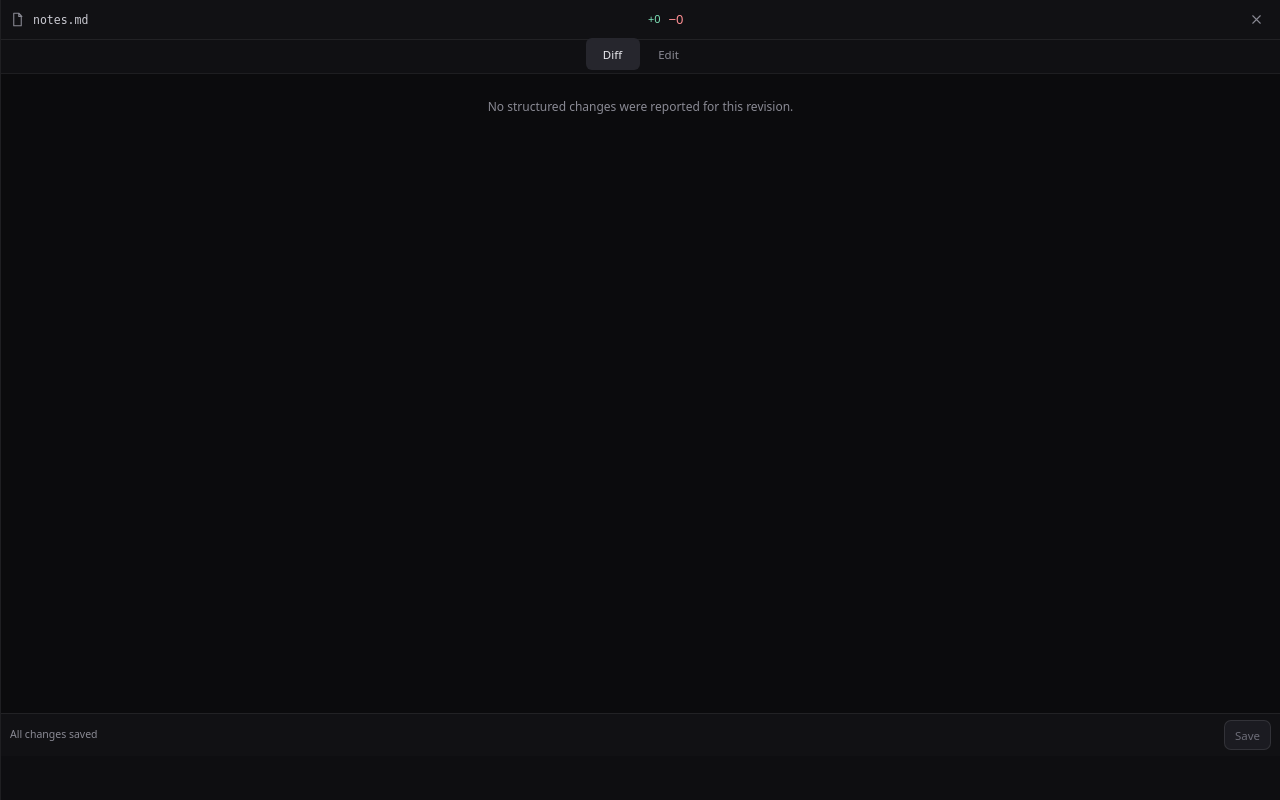
EditorPane › keeps the save acknowledgement when the parent echoes the committed revision
Click the tab "Edit": (668,54) [642,38,696,70]
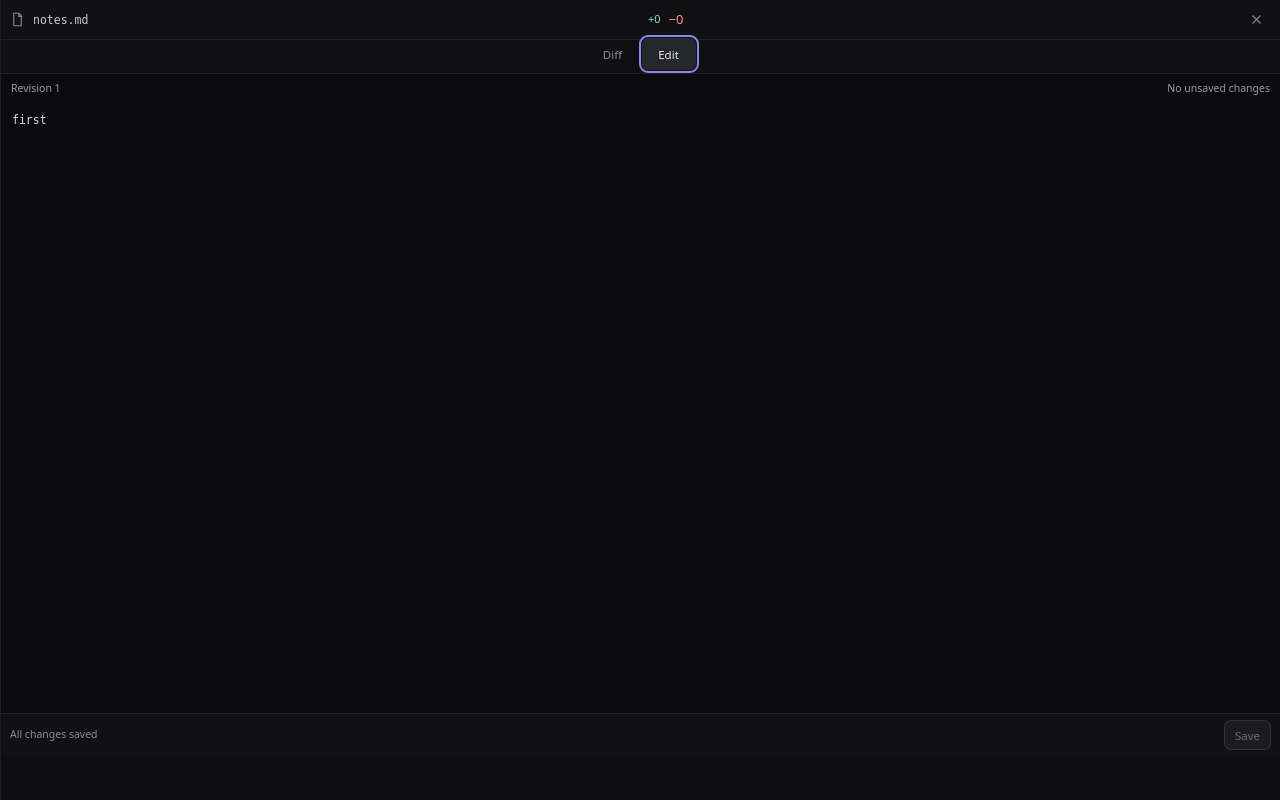
In the text box named "File content": (640,408) [1,102,1279,713], type " changed"
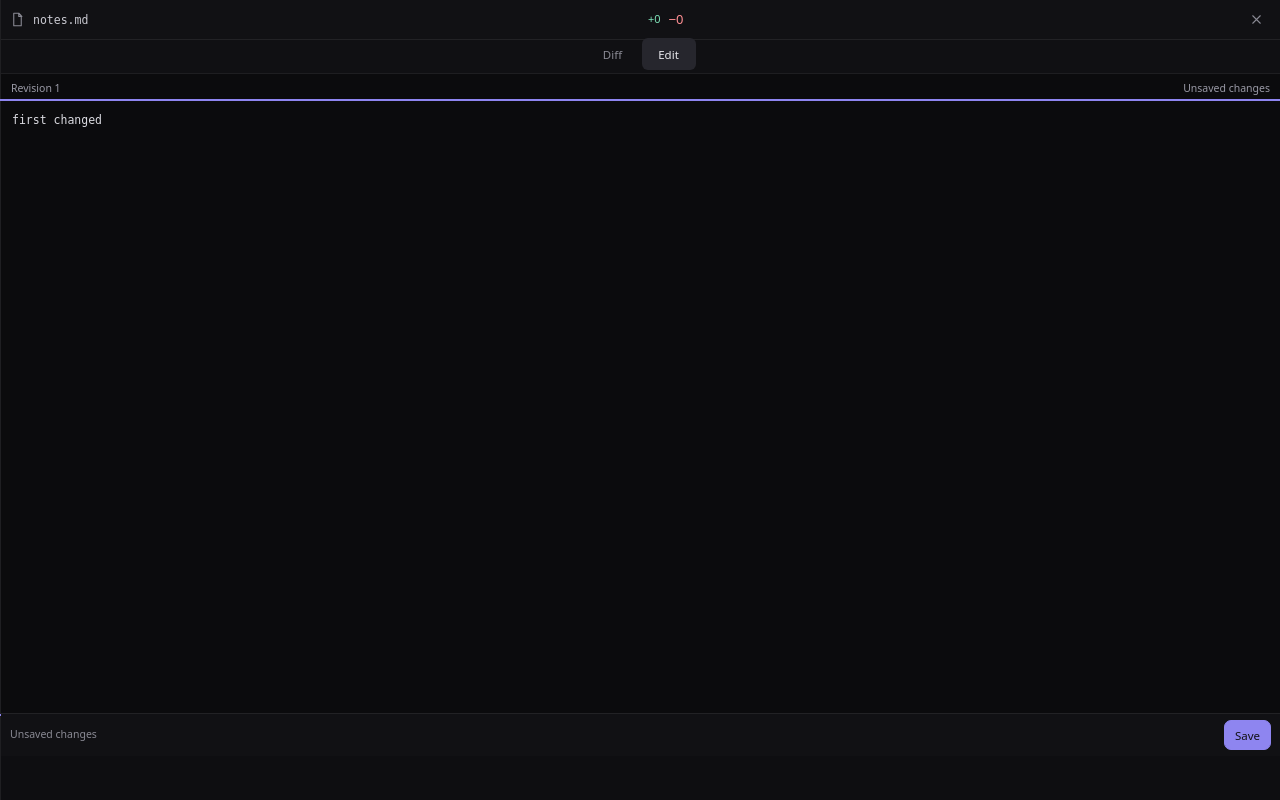
Click the button "Save": (1247,735) [1224,720,1271,750]
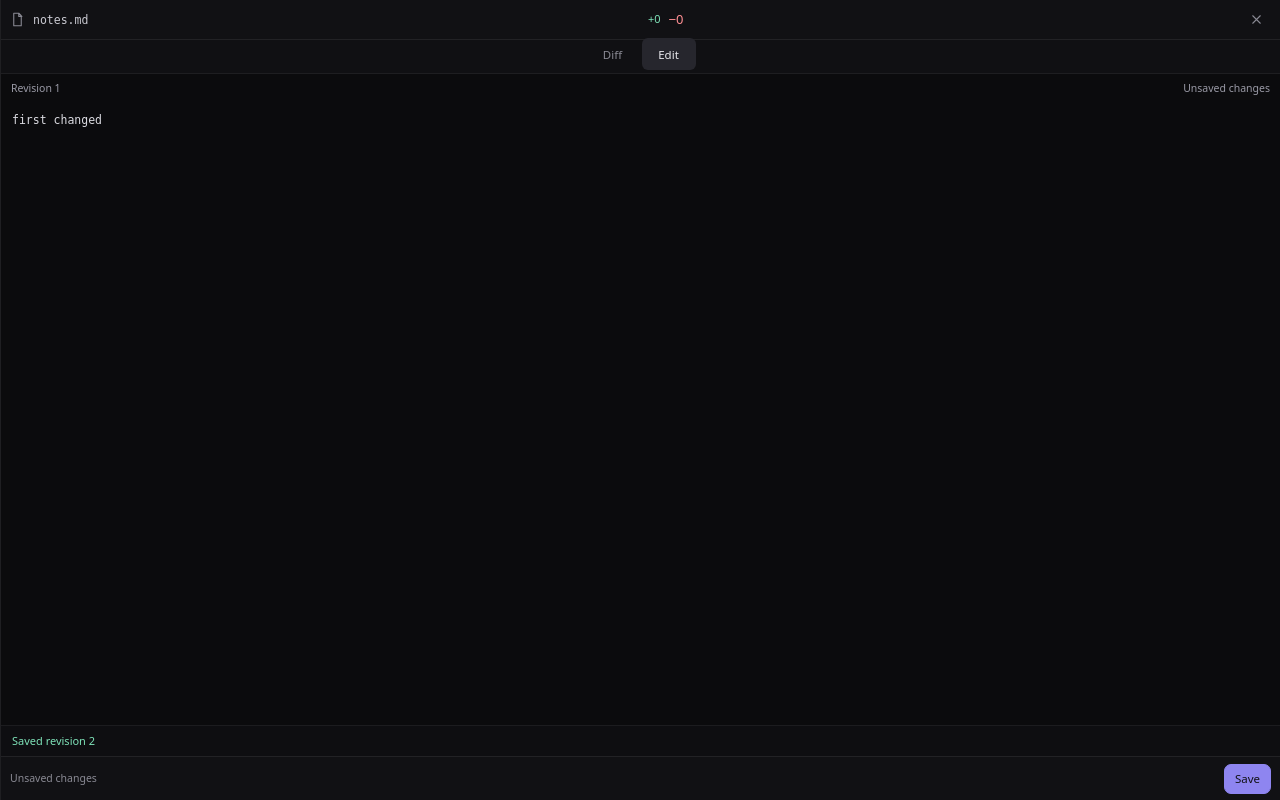
Expected: the text "Saved revision 2" is shown, [12,732,95,748]
